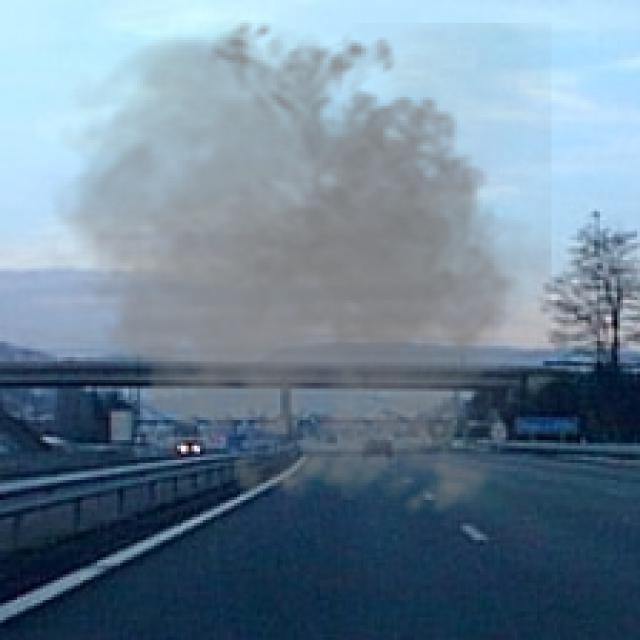Smoke: (31, 11, 552, 528)
